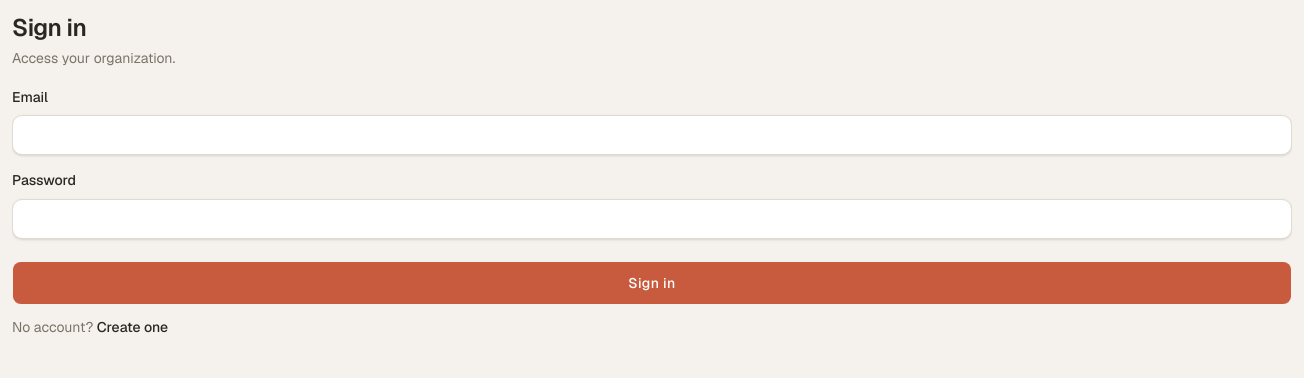
LoginForm › shows validation errors for short password
Type "a@example.com" into the field labelled "Email".
click(652, 135); type("a@example.com")  # box [12,115,1292,155]
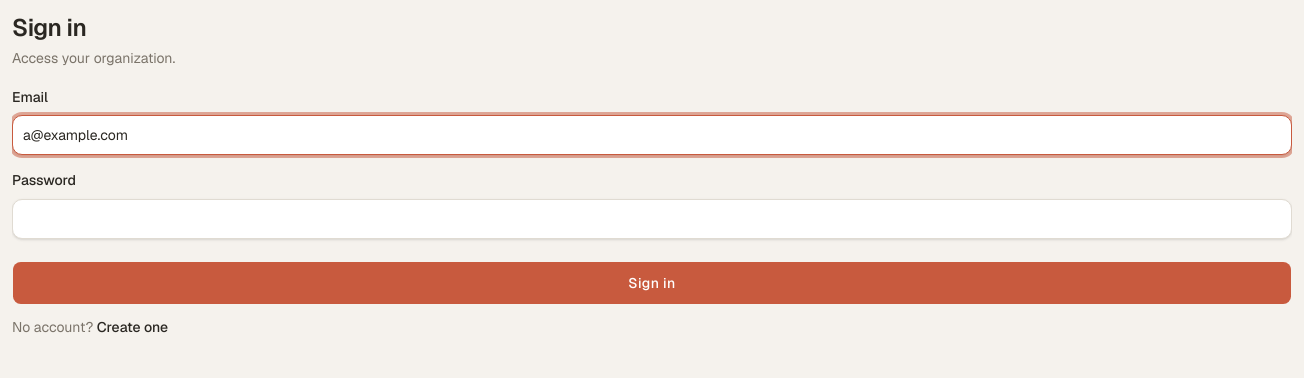
Type "short" into the password field labelled "Password".
click(652, 218); type("short")  # box [12,198,1292,238]
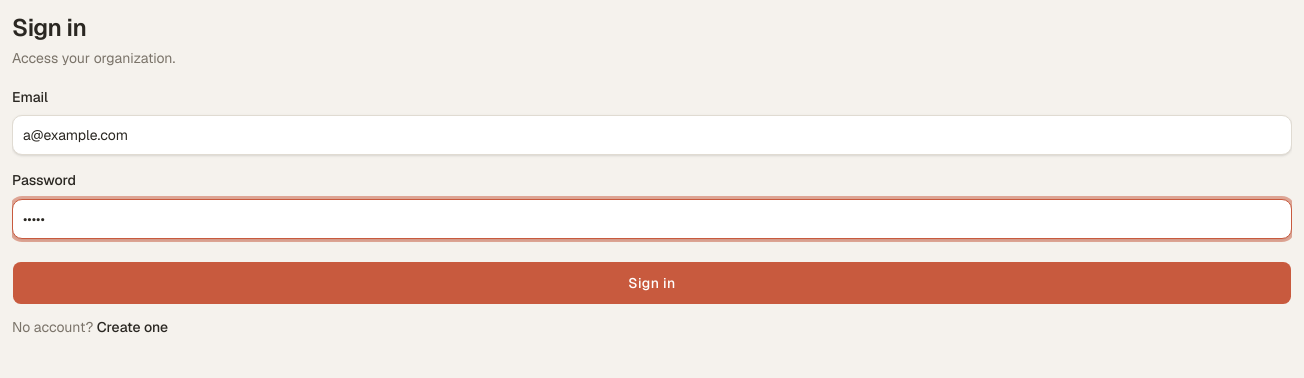
Click the button "Sign in".
click(652, 282)  # box [12,260,1292,304]
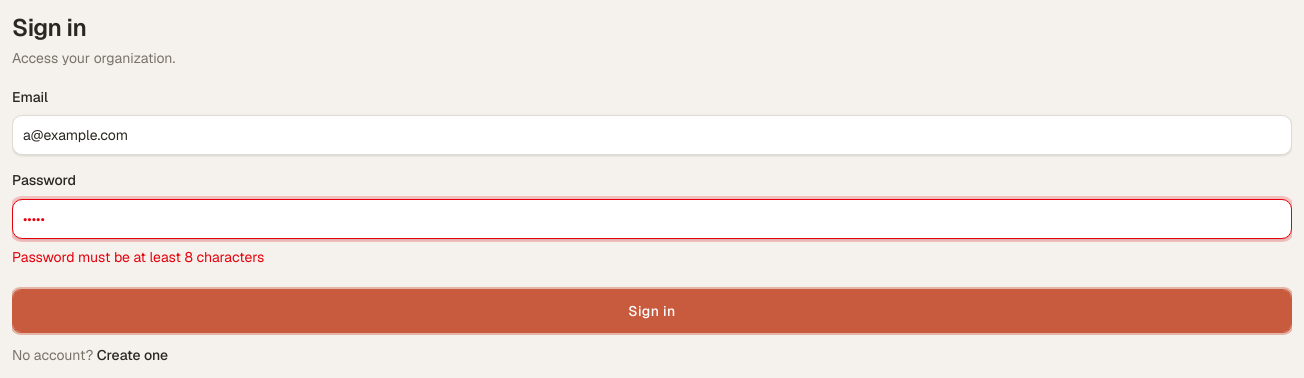
Result: the text "Password must be at least 8 characters" is shown at [12,248,264,266]
